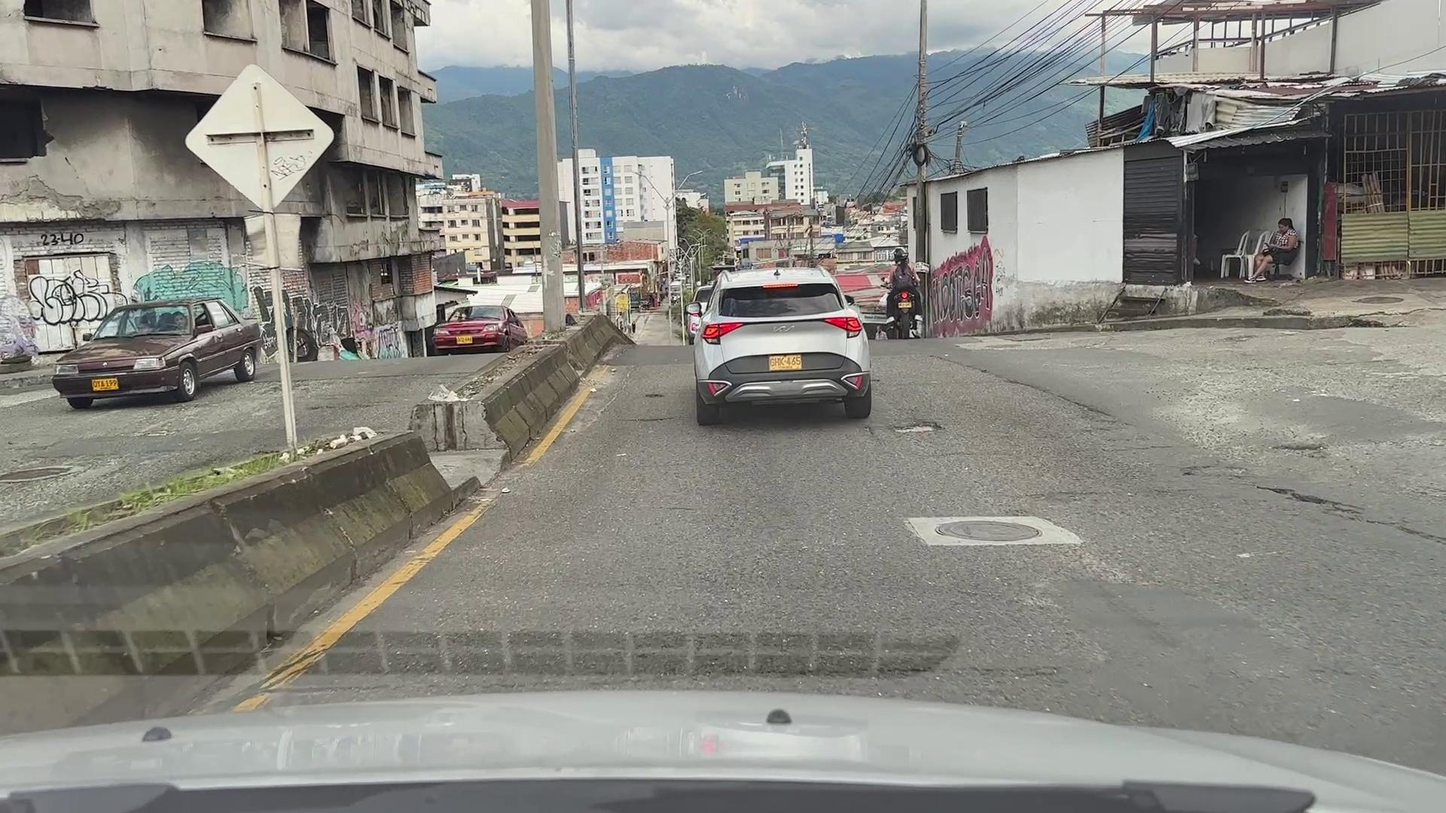bache: (1257, 486, 1364, 518), (1377, 522, 1445, 543), (895, 422, 940, 433), (1273, 443, 1327, 450), (647, 394, 662, 397)
grieta: (929, 355, 1110, 416)
registro: (935, 519, 1042, 542)
